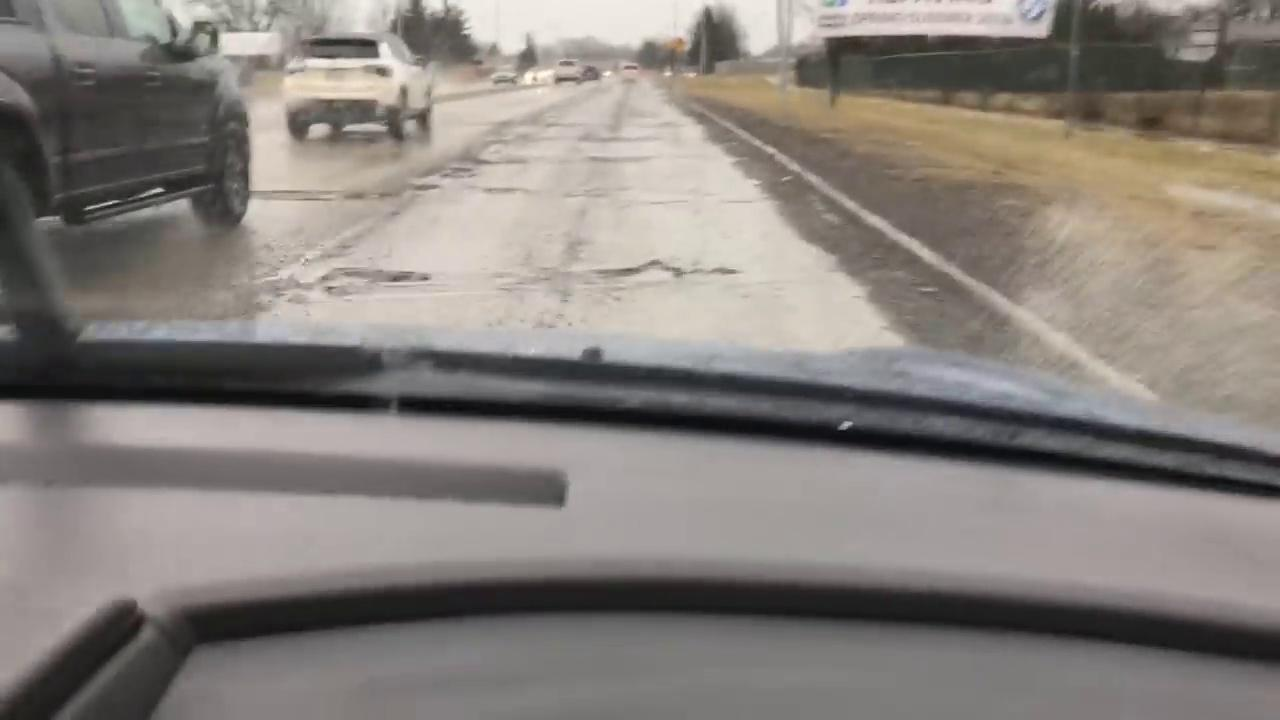pothole: (589, 257, 688, 292), (332, 265, 425, 286)
